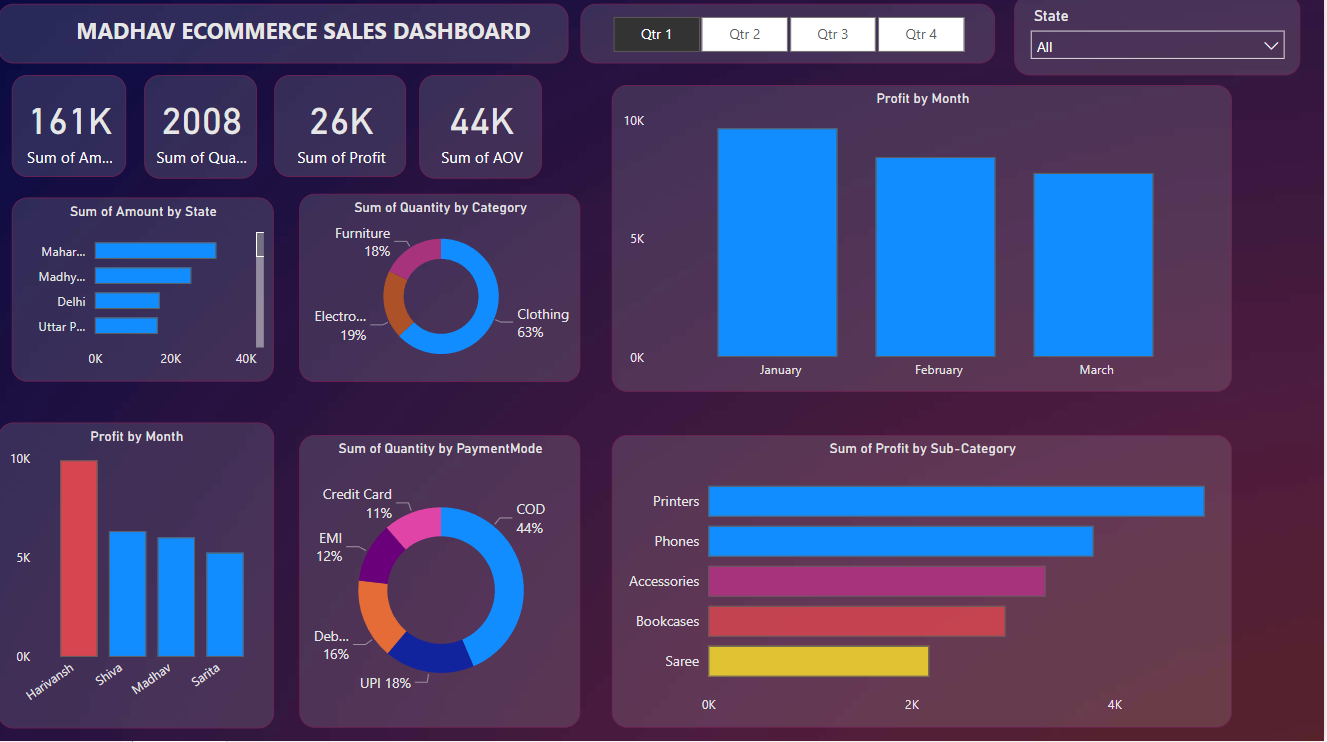

This screenshot's page, from the dashboard's own definition file:
{"tool":"powerbi","page":{"name":"Page 1","canvas":[1280,720],"ordinal":0},"visuals":[{"type":"textbox","box":[0,8.8,550,57.5],"z":0},{"type":"columnChart","title":" Profit by Month","fields":{"Category":["Orders.Order Date.Variation.Date Hierarchy.Month"],"Y":["Details.Profit"]},"box":[592.5,86.2,598.8,296.2],"z":1000},{"type":"barChart","fields":{"Category":["Details.Sub-Category"],"Y":["Details.Profit"]},"box":[592.5,425,598.8,282.5],"z":2000},{"type":"donutChart","fields":{"Category":["Details.Category"],"Y":["Details.Quantity"]},"box":[291.2,191.2,271.2,181.2],"z":3000},{"type":"donutChart","fields":{"Category":["Details.PaymentMode"],"Y":["Details.Quantity"]},"box":[291.2,425,271.2,282.5],"z":4000},{"type":"card","fields":{"Values":["Details.Amount"]},"box":[13.8,77.5,110,98.8],"z":5000},{"type":"card","fields":{"Values":["Details.Quantity"]},"box":[141.2,77.5,108.8,100],"z":6000},{"type":"card","fields":{"Values":["Details.Profit"]},"box":[266.2,77.5,127.5,98.8],"z":7000},{"type":"card","fields":{"Values":["Details.AOV"]},"box":[406.2,77.5,118.8,100],"z":8000},{"type":"barChart","fields":{"Category":["Orders.State"],"Y":["Details.Amount"]},"box":[13.8,195,252.5,177.5],"z":9000},{"type":"columnChart","title":" Profit by Month","fields":{"Category":["Orders.CustomerName"],"Y":["Details.Amount"]},"box":[0,412.5,266.2,295],"z":10000},{"type":"slicer","fields":{"Values":["Orders.Order Date.Variation.Date Hierarchy.Quarter"]},"box":[562.5,8.8,400,57.5],"z":11000},{"type":"slicer","fields":{"Values":["Orders.State"]},"box":[980,0,276.2,77.5],"z":12000}]}

Visuals, with their boxes in screenshot pixels (x1, y1, x2, y2), scaled from the page's 1280x720 canvas onto the 1327x742 screenshot:
textbox: {"x1": 0, "y1": 9, "x2": 570, "y2": 68}
" Profit by Month" columnChart: {"x1": 614, "y1": 89, "x2": 1235, "y2": 394}
barChart - Details.Sub-Category x Details.Profit: {"x1": 614, "y1": 438, "x2": 1235, "y2": 729}
donutChart - Details.Category x Details.Quantity: {"x1": 302, "y1": 197, "x2": 583, "y2": 384}
donutChart - Details.PaymentMode x Details.Quantity: {"x1": 302, "y1": 438, "x2": 583, "y2": 729}
card - Details.Amount: {"x1": 14, "y1": 80, "x2": 128, "y2": 182}
card - Details.Quantity: {"x1": 146, "y1": 80, "x2": 259, "y2": 183}
card - Details.Profit: {"x1": 276, "y1": 80, "x2": 408, "y2": 182}
card - Details.AOV: {"x1": 421, "y1": 80, "x2": 544, "y2": 183}
barChart - Orders.State x Details.Amount: {"x1": 14, "y1": 201, "x2": 276, "y2": 384}
" Profit by Month" columnChart: {"x1": 0, "y1": 425, "x2": 276, "y2": 729}
slicer - Orders.Order Date.Variation.Date Hierarchy.Quarter: {"x1": 583, "y1": 9, "x2": 998, "y2": 68}
slicer - Orders.State: {"x1": 1016, "y1": 0, "x2": 1302, "y2": 80}
